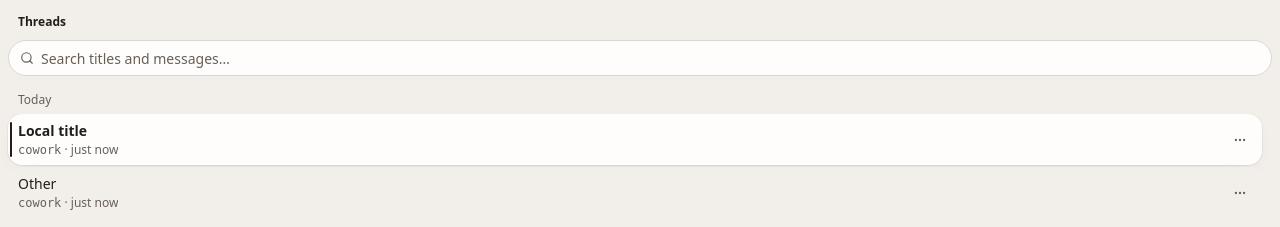
Test: ThreadList rows › keeps a waiting thread plain in the list, and says it in words in a search
The width and height of the screenshot is (1280, 227).
Expected: the element "Waiting on you" is not shown
Expected: the button "Other" does not show "Waiting on you"
Type "other" into the search field named "Search threads".
click(640, 58); type("other")  # box [8,40,1272,76]
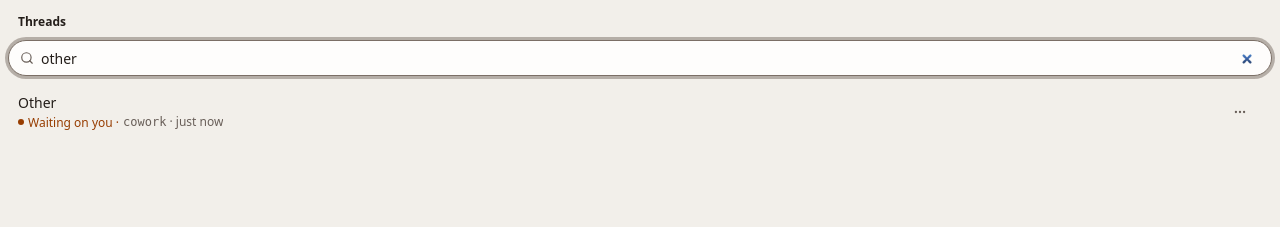
Expected: the button "Other Waiting on you · cowork · just now" is shown, [18,92,1220,131]
